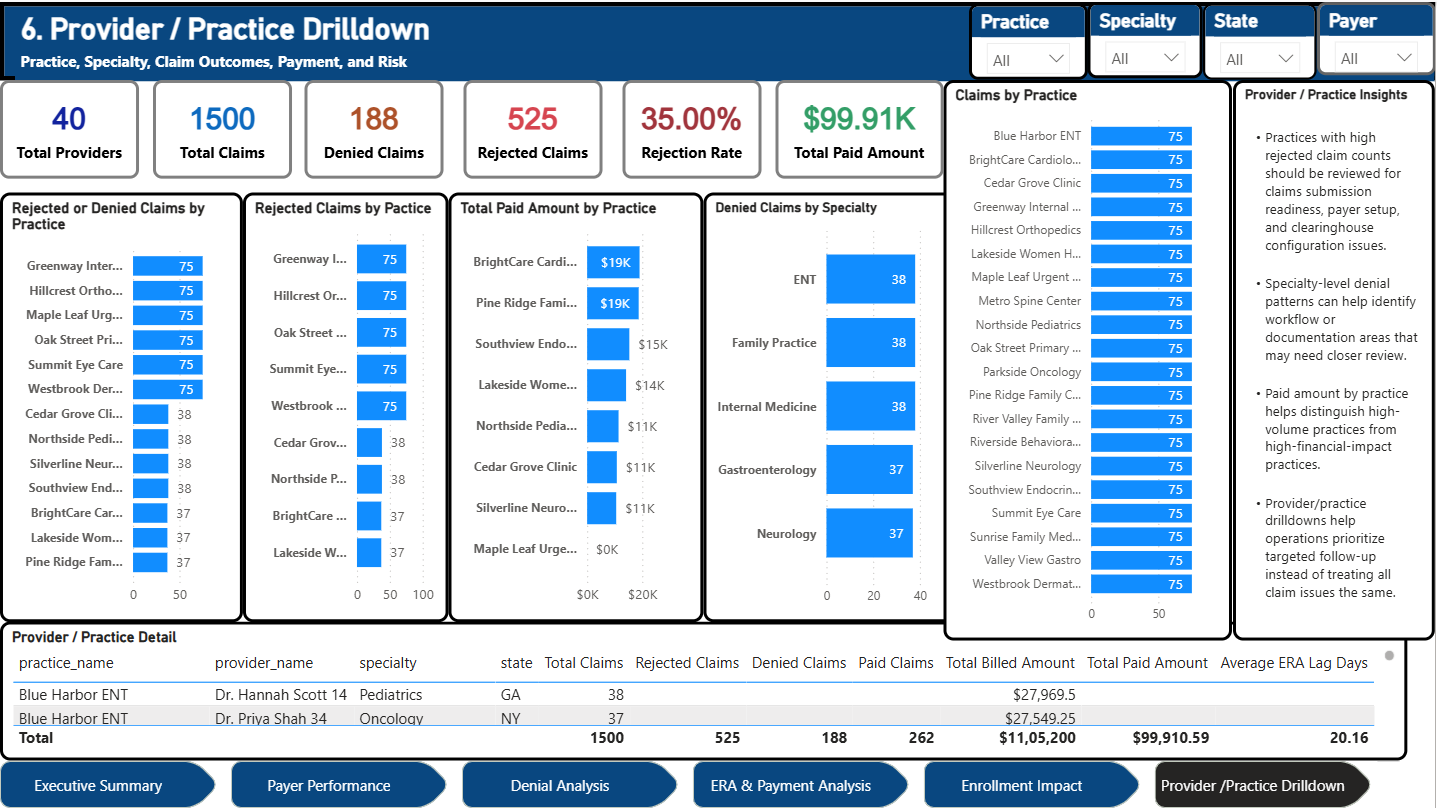

The dashboard page shown, as its layout file describes it:
{"tool":"powerbi","page":{"name":"Provider /Practice Drilldown","canvas":[1280,720],"ordinal":5},"visuals":[{"type":"shape","box":[0,0,1280,70],"z":0},{"type":"textbox","title":"6. Provider / Practice Drilldown","box":[13.2,7.6,1266.2,62.4],"z":1},{"type":"slicer","title":"Specialty","fields":{"Values":["dim_provider.specialty"]},"box":[970.6,0,103,68.1],"z":2},{"type":"slicer","title":"State","fields":{"Values":["dim_provider.state"]},"box":[1073.6,1.5,101.5,68.1],"z":3},{"type":"slicer","title":"Practice","fields":{"Values":["dim_provider.practice_name"]},"box":[864.6,1.5,106,68.1],"z":5},{"type":"clusteredBarChart","title":"Rejected or Denied Claims by Practice","fields":{"Category":["dim_provider.practice_name"],"Y":["_Measures.Problem Claims"]},"box":[0,169.6,216.5,383.1],"z":6},{"type":"tableEx","title":"Provider / Practice Detail","fields":{"Values":["dim_provider.practice_name","dim_provider.provider_name","dim_provider.specialty","dim_provider.state","_Measures.Total Claims","_Measures.Rejected Claims","_Measures.Denied Claims","_Measures.Paid Claims","_Measures.Total Billed Amount","_Measures.Total Paid Amount","_Measures.Average ERA Lag Days"]},"box":[0,552.7,1255.3,124.2],"z":7},{"type":"clusteredBarChart","title":"Total Paid Amount by Practice","fields":{"Category":["dim_provider.practice_name"],"Y":["_Measures.Total Paid Amount"]},"box":[399.8,169.6,227.1,383.1],"z":8},{"type":"clusteredBarChart","title":"Rejected Claims by Pactice","fields":{"Category":["dim_provider.practice_name"],"Y":["_Measures.Rejected Claims"]},"box":[216.5,169.6,183.2,383.1],"z":9},{"type":"clusteredBarChart","title":"Denied Claims by Specialty","fields":{"Category":["dim_provider.specialty"],"Y":["_Measures.Denied Claims"]},"box":[626.9,169.6,224.1,383.1],"z":10},{"type":"clusteredBarChart","title":"Claims by Practice","fields":{"Category":["dim_provider.practice_name"],"Y":["_Measures.Total Claims"]},"box":[841.9,69.7,257.4,499.7],"z":11},{"type":"card","fields":{"Values":["_Measures.Total Providers"]},"box":[0,69.7,124.2,87.8],"z":12},{"type":"card","fields":{"Values":["_Measures.Total Paid Amount"]},"box":[692,69.7,149.9,87.8],"z":13},{"type":"card","fields":{"Values":["_Measures.Rejection Rate"]},"box":[555.7,69.7,124.2,87.8],"z":14},{"type":"card","fields":{"Values":["_Measures.Denied Claims"]},"box":[271,69.7,124.2,87.8],"z":15},{"type":"card","fields":{"Values":["_Measures.Total Claims"]},"box":[136.3,69.7,124.2,87.8],"z":16},{"type":"card","fields":{"Values":["_Measures.Rejected Claims"]},"box":[413.4,69.7,124.2,87.8],"z":17},{"type":"textbox","title":"Provider / Practice Insights","box":[1099.3,69.7,180.2,499.7],"z":18},{"type":"pageNavigator","box":[0,677.4,1228.4,42.6],"z":19},{"type":"slicer","title":"Payer","fields":{"Values":["dim_payer.payer_name"]},"box":[1174.7,0,105.9,65.5],"z":21}]}

Visuals, with their boxes in screenshot pixels (x1, y1, x2, y2), scaled from the page's 1280x720 canvas onto the 1437x808 screenshot:
shape: 0/0/1436/79
"6. Provider / Practice Drilldown" textbox: 15/9/1436/79
"Specialty" slicer: 1090/0/1205/76
"State" slicer: 1205/2/1319/78
"Practice" slicer: 971/2/1090/78
"Rejected or Denied Claims by Practice" clusteredBarChart: 0/190/243/620
"Provider / Practice Detail" tableEx: 0/620/1409/760
"Total Paid Amount by Practice" clusteredBarChart: 449/190/704/620
"Rejected Claims by Pactice" clusteredBarChart: 243/190/449/620
"Denied Claims by Specialty" clusteredBarChart: 704/190/955/620
"Claims by Practice" clusteredBarChart: 945/78/1234/639
card - _Measures.Total Providers: 0/78/139/177
card - _Measures.Total Paid Amount: 777/78/945/177
card - _Measures.Rejection Rate: 624/78/763/177
card - _Measures.Denied Claims: 304/78/444/177
card - _Measures.Total Claims: 153/78/292/177
card - _Measures.Rejected Claims: 464/78/604/177
"Provider / Practice Insights" textbox: 1234/78/1436/639
pageNavigator: 0/760/1379/807
"Payer" slicer: 1319/0/1436/74
